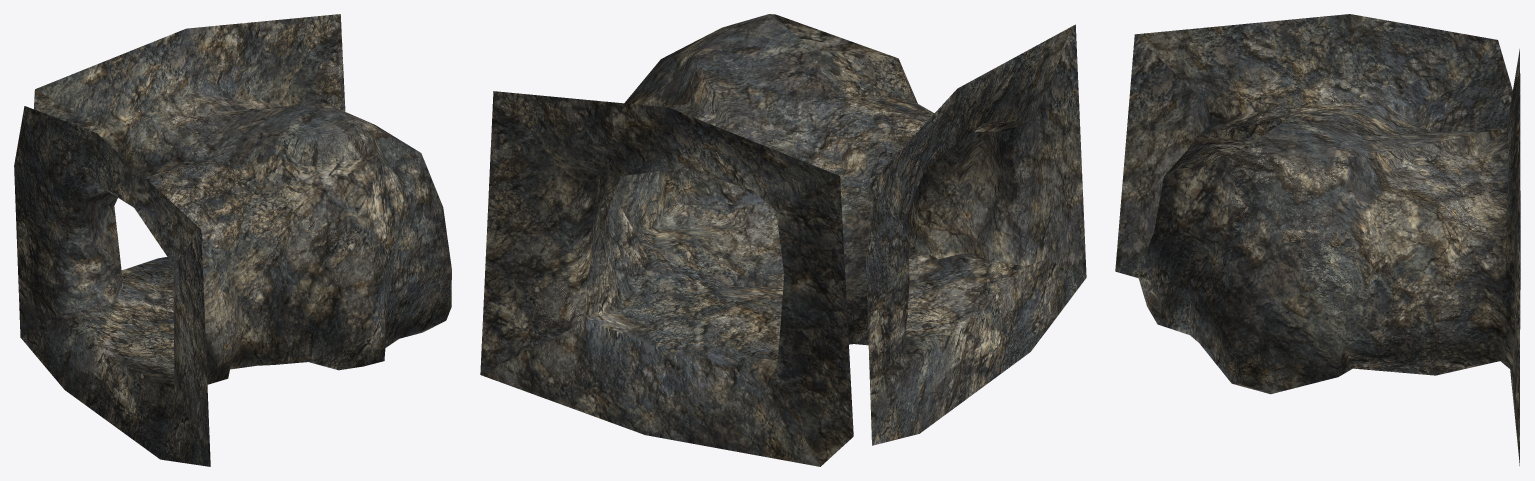
Rendered from Module9_LOD2.fbx.
3 views of the same model, side by side, from view 1: azimuth 30°, elevation 25°; view 2: azimuth 150°, elevation 25°; view 3: azimuth 270°, elevation 25° (orthographic). The views are drawn at different scales.
Parts seen in each view (by area): view 1: cave_el9_800:Group30363; view 2: cave_el9_800:Group30363; view 3: cave_el9_800:Group30363.
Part boxes in pixels (bbox=[...]): cave_el9_800:Group30363: bbox=[14, 14, 451, 466]; cave_el9_800:Group30363: bbox=[480, 14, 1086, 466]; cave_el9_800:Group30363: bbox=[1115, 14, 1520, 465].
Size of the model in its own units: 10.06 by 8.34 by 10.11.
